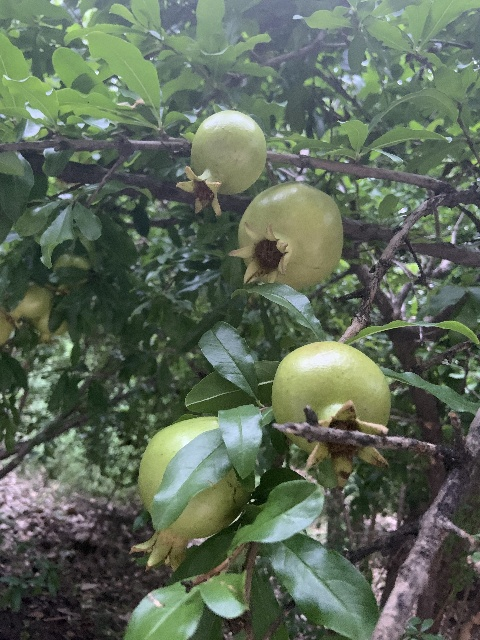mid-growth: (129, 416, 248, 572), (270, 340, 391, 486), (227, 181, 344, 292), (175, 109, 267, 216), (1, 284, 50, 329), (33, 308, 68, 344)
